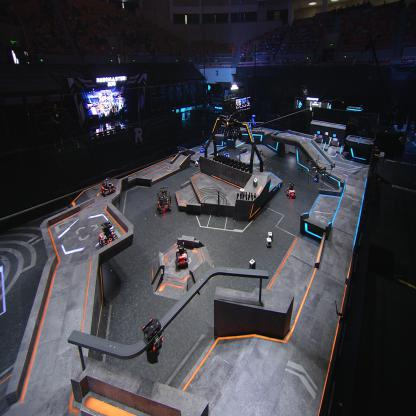car: (97, 221, 118, 248), (155, 185, 172, 213), (175, 240, 189, 271), (101, 177, 116, 196), (286, 181, 296, 198), (199, 142, 207, 152), (223, 148, 230, 158)
